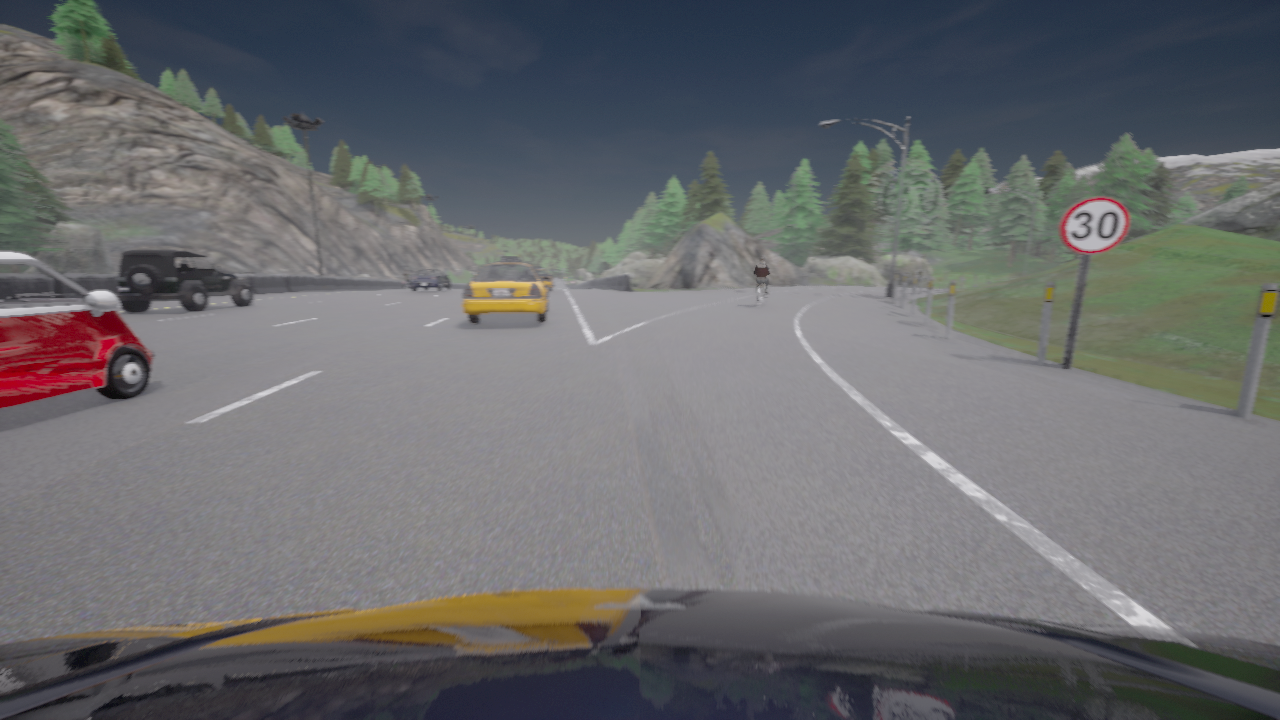cyclist: (0, 588, 1279, 719), (115, 249, 252, 312), (463, 257, 549, 323), (412, 269, 451, 291), (535, 267, 553, 291), (757, 284, 766, 307), (401, 276, 411, 289), (471, 277, 474, 281)
